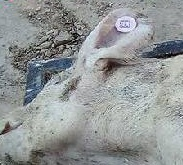text: (105, 7, 145, 43)
